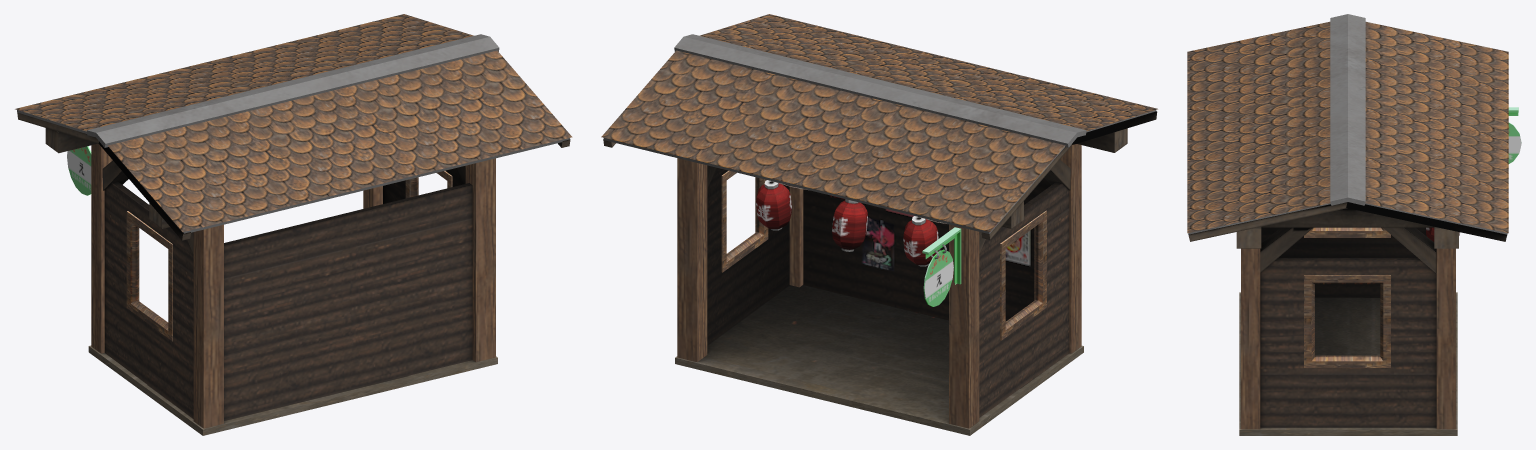
File: NNJ0110005.fbx
The picture shows the model from 3 angles, left to right: view 1: azimuth 30°, elevation 25°; view 2: azimuth 150°, elevation 25°; view 3: azimuth 270°, elevation 25°; orthographic projection. The views are drawn at different scales.
Visible parts, largest first — view 1: smNNJ0110005; view 2: smNNJ0110005; view 3: smNNJ0110005.
Boxes of the visible parts, <box> form: smNNJ0110005: <box>15,14,572,435</box>; smNNJ0110005: <box>601,14,1157,435</box>; smNNJ0110005: <box>1187,14,1521,435</box>.
Size of the model in its own units: 621 by 412 by 478.
1 material, 1 textured.
